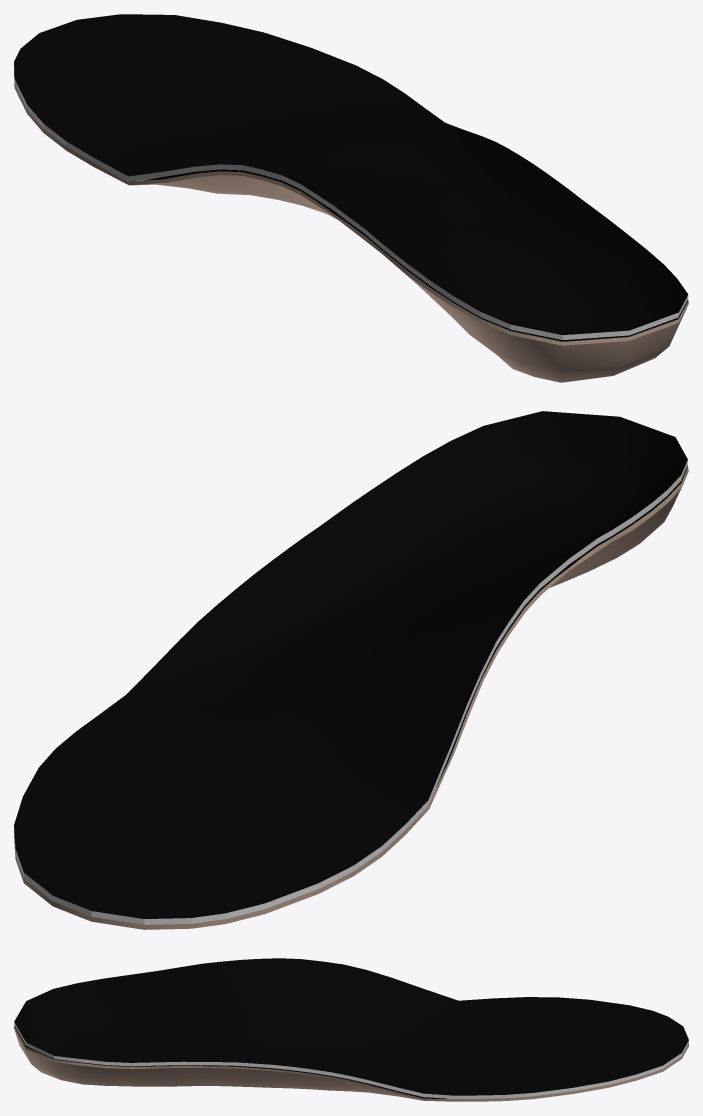
The model's file is FSO_OrthoticProducts.gltf.
3 views of the same model, one above another, from view 1: azimuth 30°, elevation 25°; view 2: azimuth 150°, elevation 25°; view 3: azimuth 270°, elevation 25° (orthographic). The views are drawn at different scales.
Visible parts, largest first — view 1: FSO_OrthoticProducts_model_final:TopSheet, FSO_OrthoticProducts_model_final:polySurface1, FSO_OrthoticProducts_model_final:WhiteFoamLayer, FSO_OrthoticProducts_model_final:BlackFoamLayer; view 2: FSO_OrthoticProducts_model_final:TopSheet, FSO_OrthoticProducts_model_final:polySurface1, FSO_OrthoticProducts_model_final:WhiteFoamLayer, FSO_OrthoticProducts_model_final:BlackFoamLayer; view 3: FSO_OrthoticProducts_model_final:TopSheet, FSO_OrthoticProducts_model_final:polySurface1, FSO_OrthoticProducts_model_final:WhiteFoamLayer, FSO_OrthoticProducts_model_final:BlackFoamLayer.
Boxes of the visible parts, x1,y1,x2,y2 form: FSO_OrthoticProducts_model_final:TopSheet: (14, 14, 688, 334); FSO_OrthoticProducts_model_final:polySurface1: (14, 72, 688, 382); FSO_OrthoticProducts_model_final:WhiteFoamLayer: (14, 67, 688, 340); FSO_OrthoticProducts_model_final:BlackFoamLayer: (144, 169, 688, 341); FSO_OrthoticProducts_model_final:TopSheet: (14, 411, 687, 918); FSO_OrthoticProducts_model_final:polySurface1: (14, 467, 688, 929); FSO_OrthoticProducts_model_final:WhiteFoamLayer: (14, 460, 687, 924); FSO_OrthoticProducts_model_final:BlackFoamLayer: (436, 448, 687, 786); FSO_OrthoticProducts_model_final:TopSheet: (14, 958, 688, 1095); FSO_OrthoticProducts_model_final:polySurface1: (14, 1026, 688, 1101); FSO_OrthoticProducts_model_final:WhiteFoamLayer: (14, 1022, 688, 1098); FSO_OrthoticProducts_model_final:BlackFoamLayer: (14, 1025, 446, 1099).
Size of what is drawn, in the model's own units: 0.1017 by 0.0295 by 0.2945.
